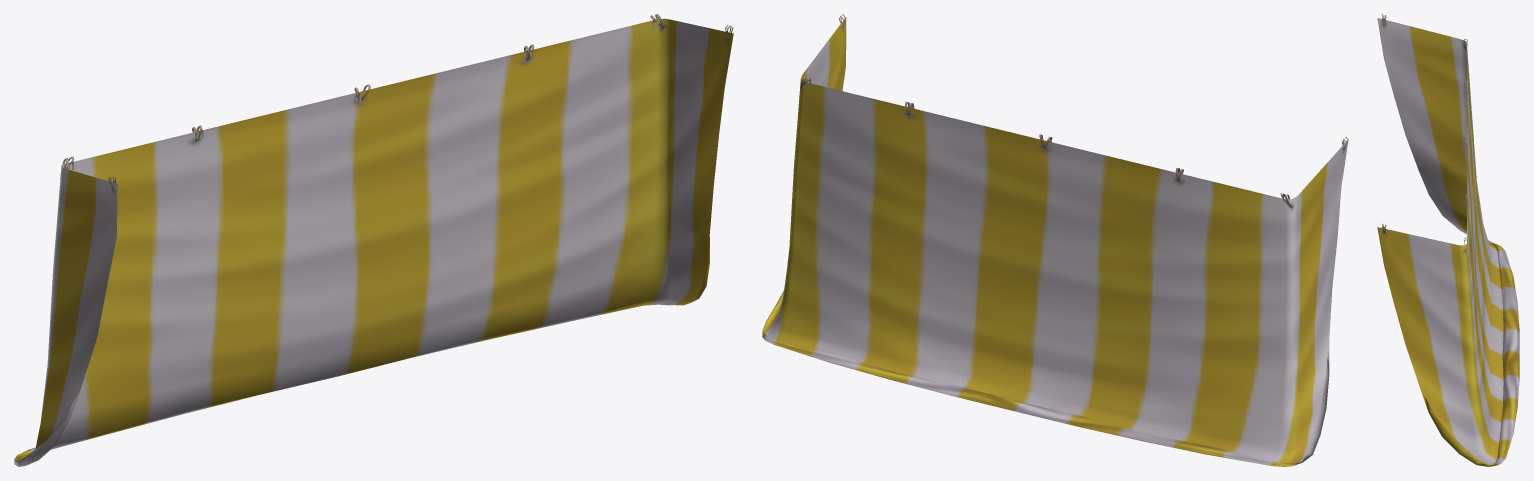
The model's file is jsf_BackSide_s04_c03_t01.fbx.
3 views of the same model, side by side, from view 1: azimuth 30°, elevation 25°; view 2: azimuth 150°, elevation 25°; view 3: azimuth 270°, elevation 25° (orthographic). The views are drawn at different scales.
Visible parts, largest first — view 1: jsf_BackSide_s04_c03_t01; view 2: jsf_BackSide_s04_c03_t01; view 3: jsf_BackSide_s04_c03_t01.
Part boxes in pixels (x1,y1,x2,y2): jsf_BackSide_s04_c03_t01: [14, 14, 733, 466]; jsf_BackSide_s04_c03_t01: [762, 14, 1348, 466]; jsf_BackSide_s04_c03_t01: [1377, 14, 1519, 466].
Bounding box in the file's own units: 425 × 205 × 112.
